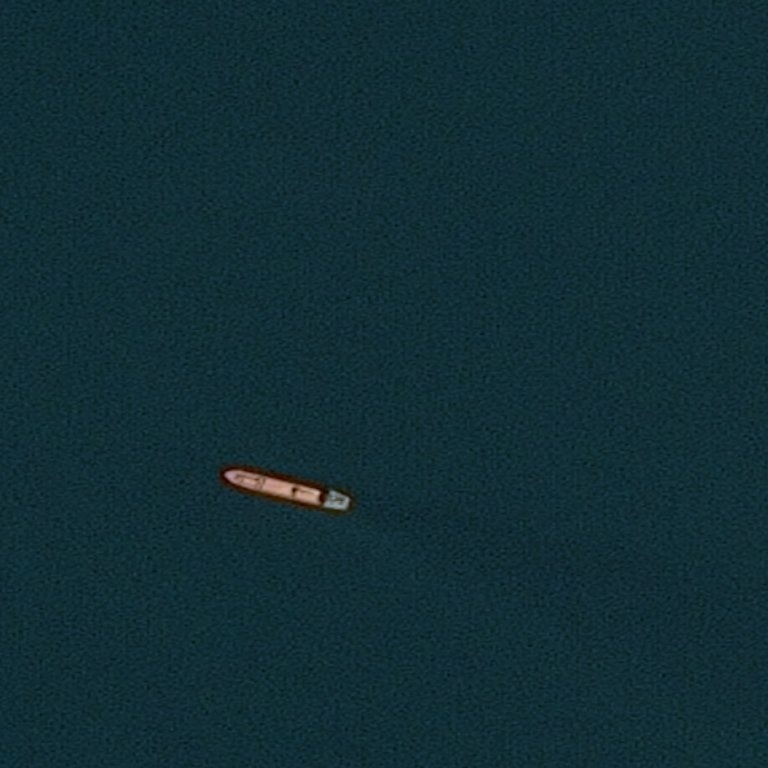ship: (221, 466, 349, 511)
